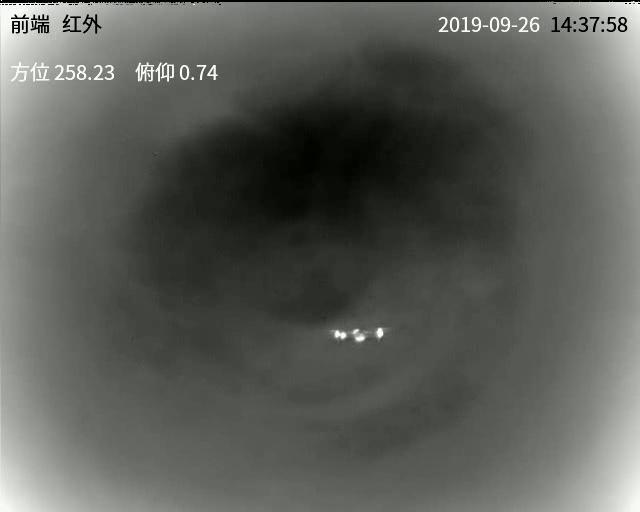DRONE: (331, 326, 386, 345)
